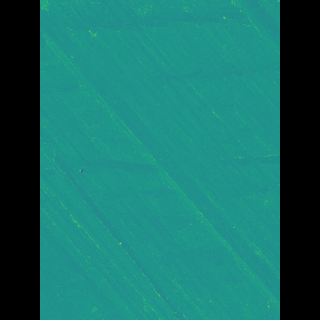Loch: (119, 156, 173, 207)
